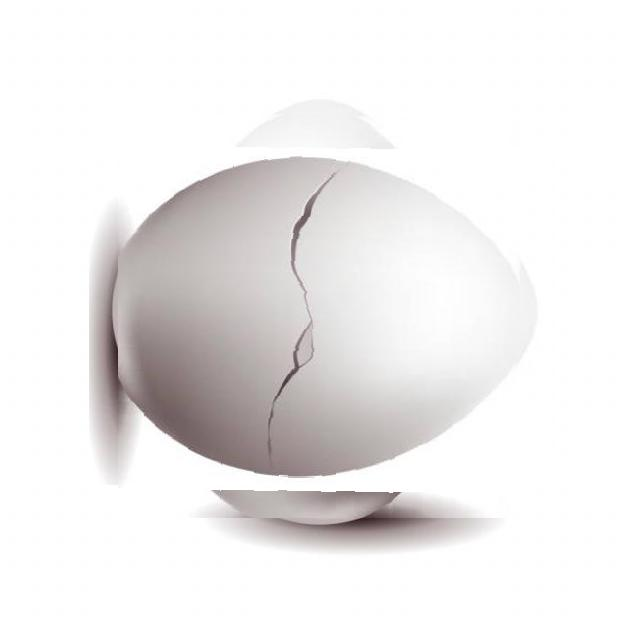biodegradable: (118, 109, 527, 518)
